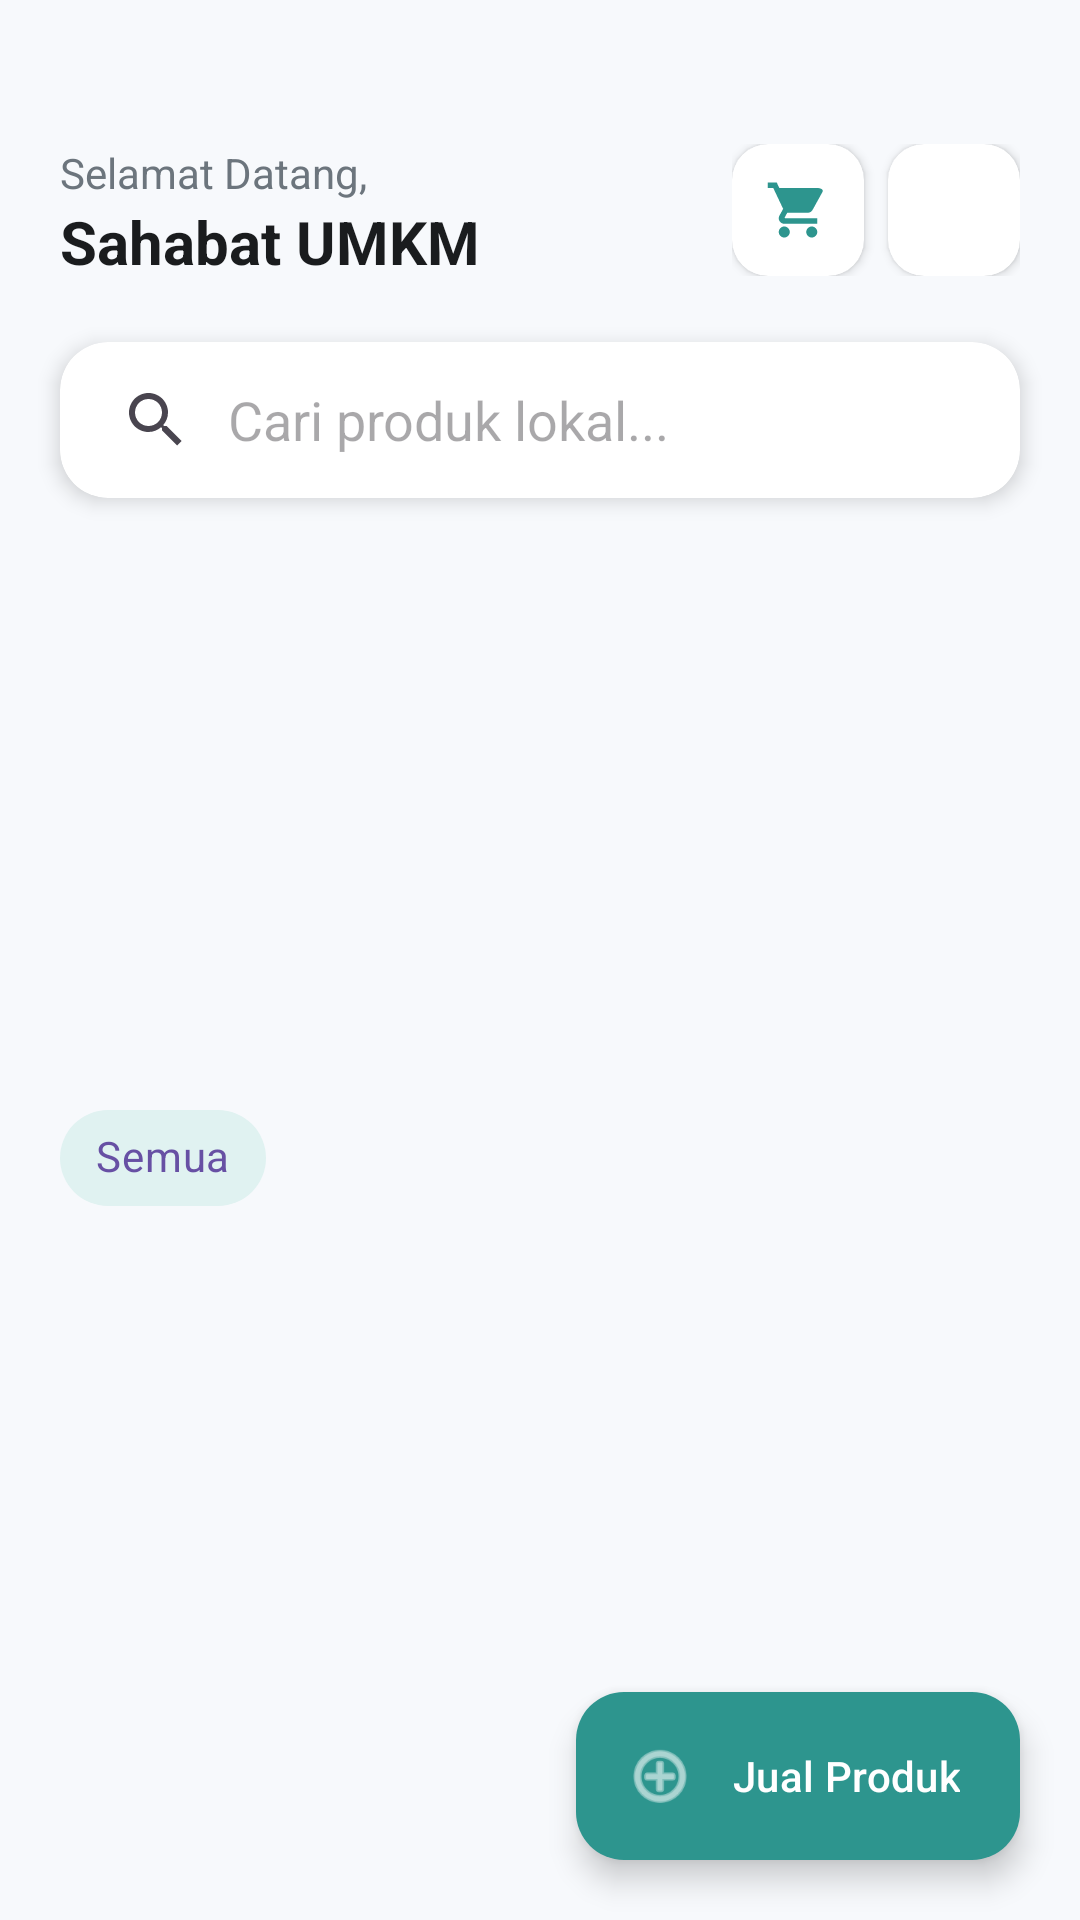

Where icons sit on this 1080*1920 app screen, as (x1=x1, y1=y1, x2=x2, y2=y2):
cart: (x1=767, y1=182, x2=823, y2=238)
